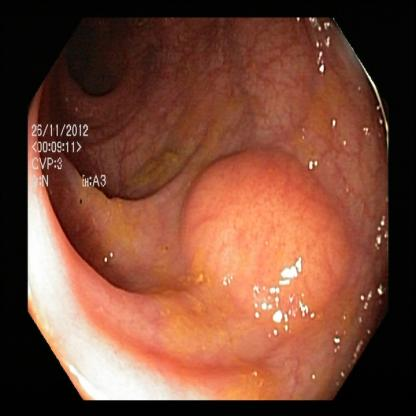Labels: (30, 119, 116, 197)
Polyps: (178, 169, 346, 320)
